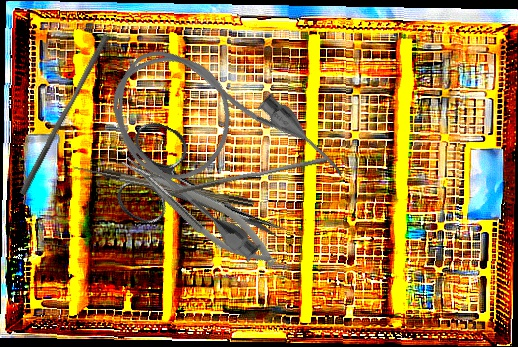Cannula: (82, 12, 353, 273)
Hook Surgical: (71, 161, 255, 210)
Iris Scissors: (104, 116, 305, 277)
Needle Holder: (115, 140, 285, 280)
Pusher: (19, 31, 111, 199), (171, 151, 328, 201)
